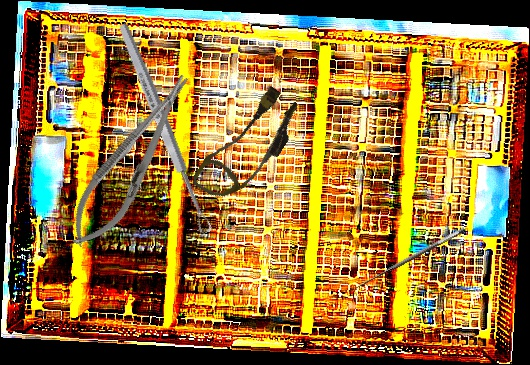Cannula: (190, 77, 308, 215)
Hook Surgical: (350, 225, 471, 300)
Needle Holder: (56, 63, 207, 259)
Surgical Spoon: (115, 21, 214, 236)
